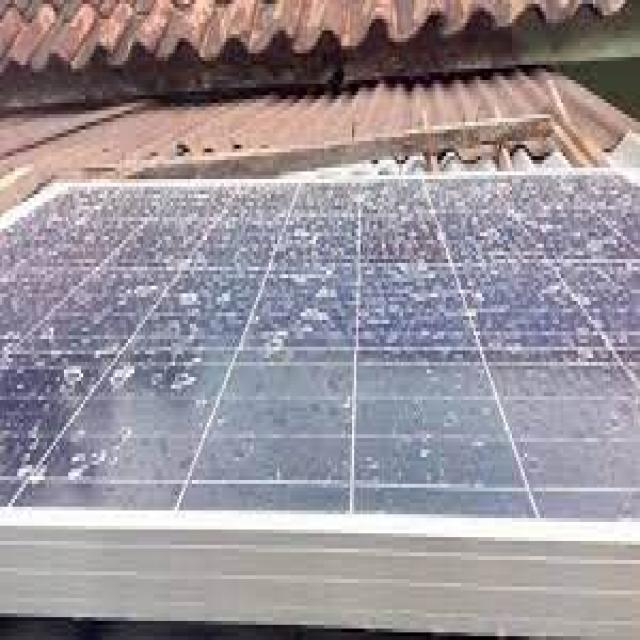faulty: (0, 158, 640, 539)
